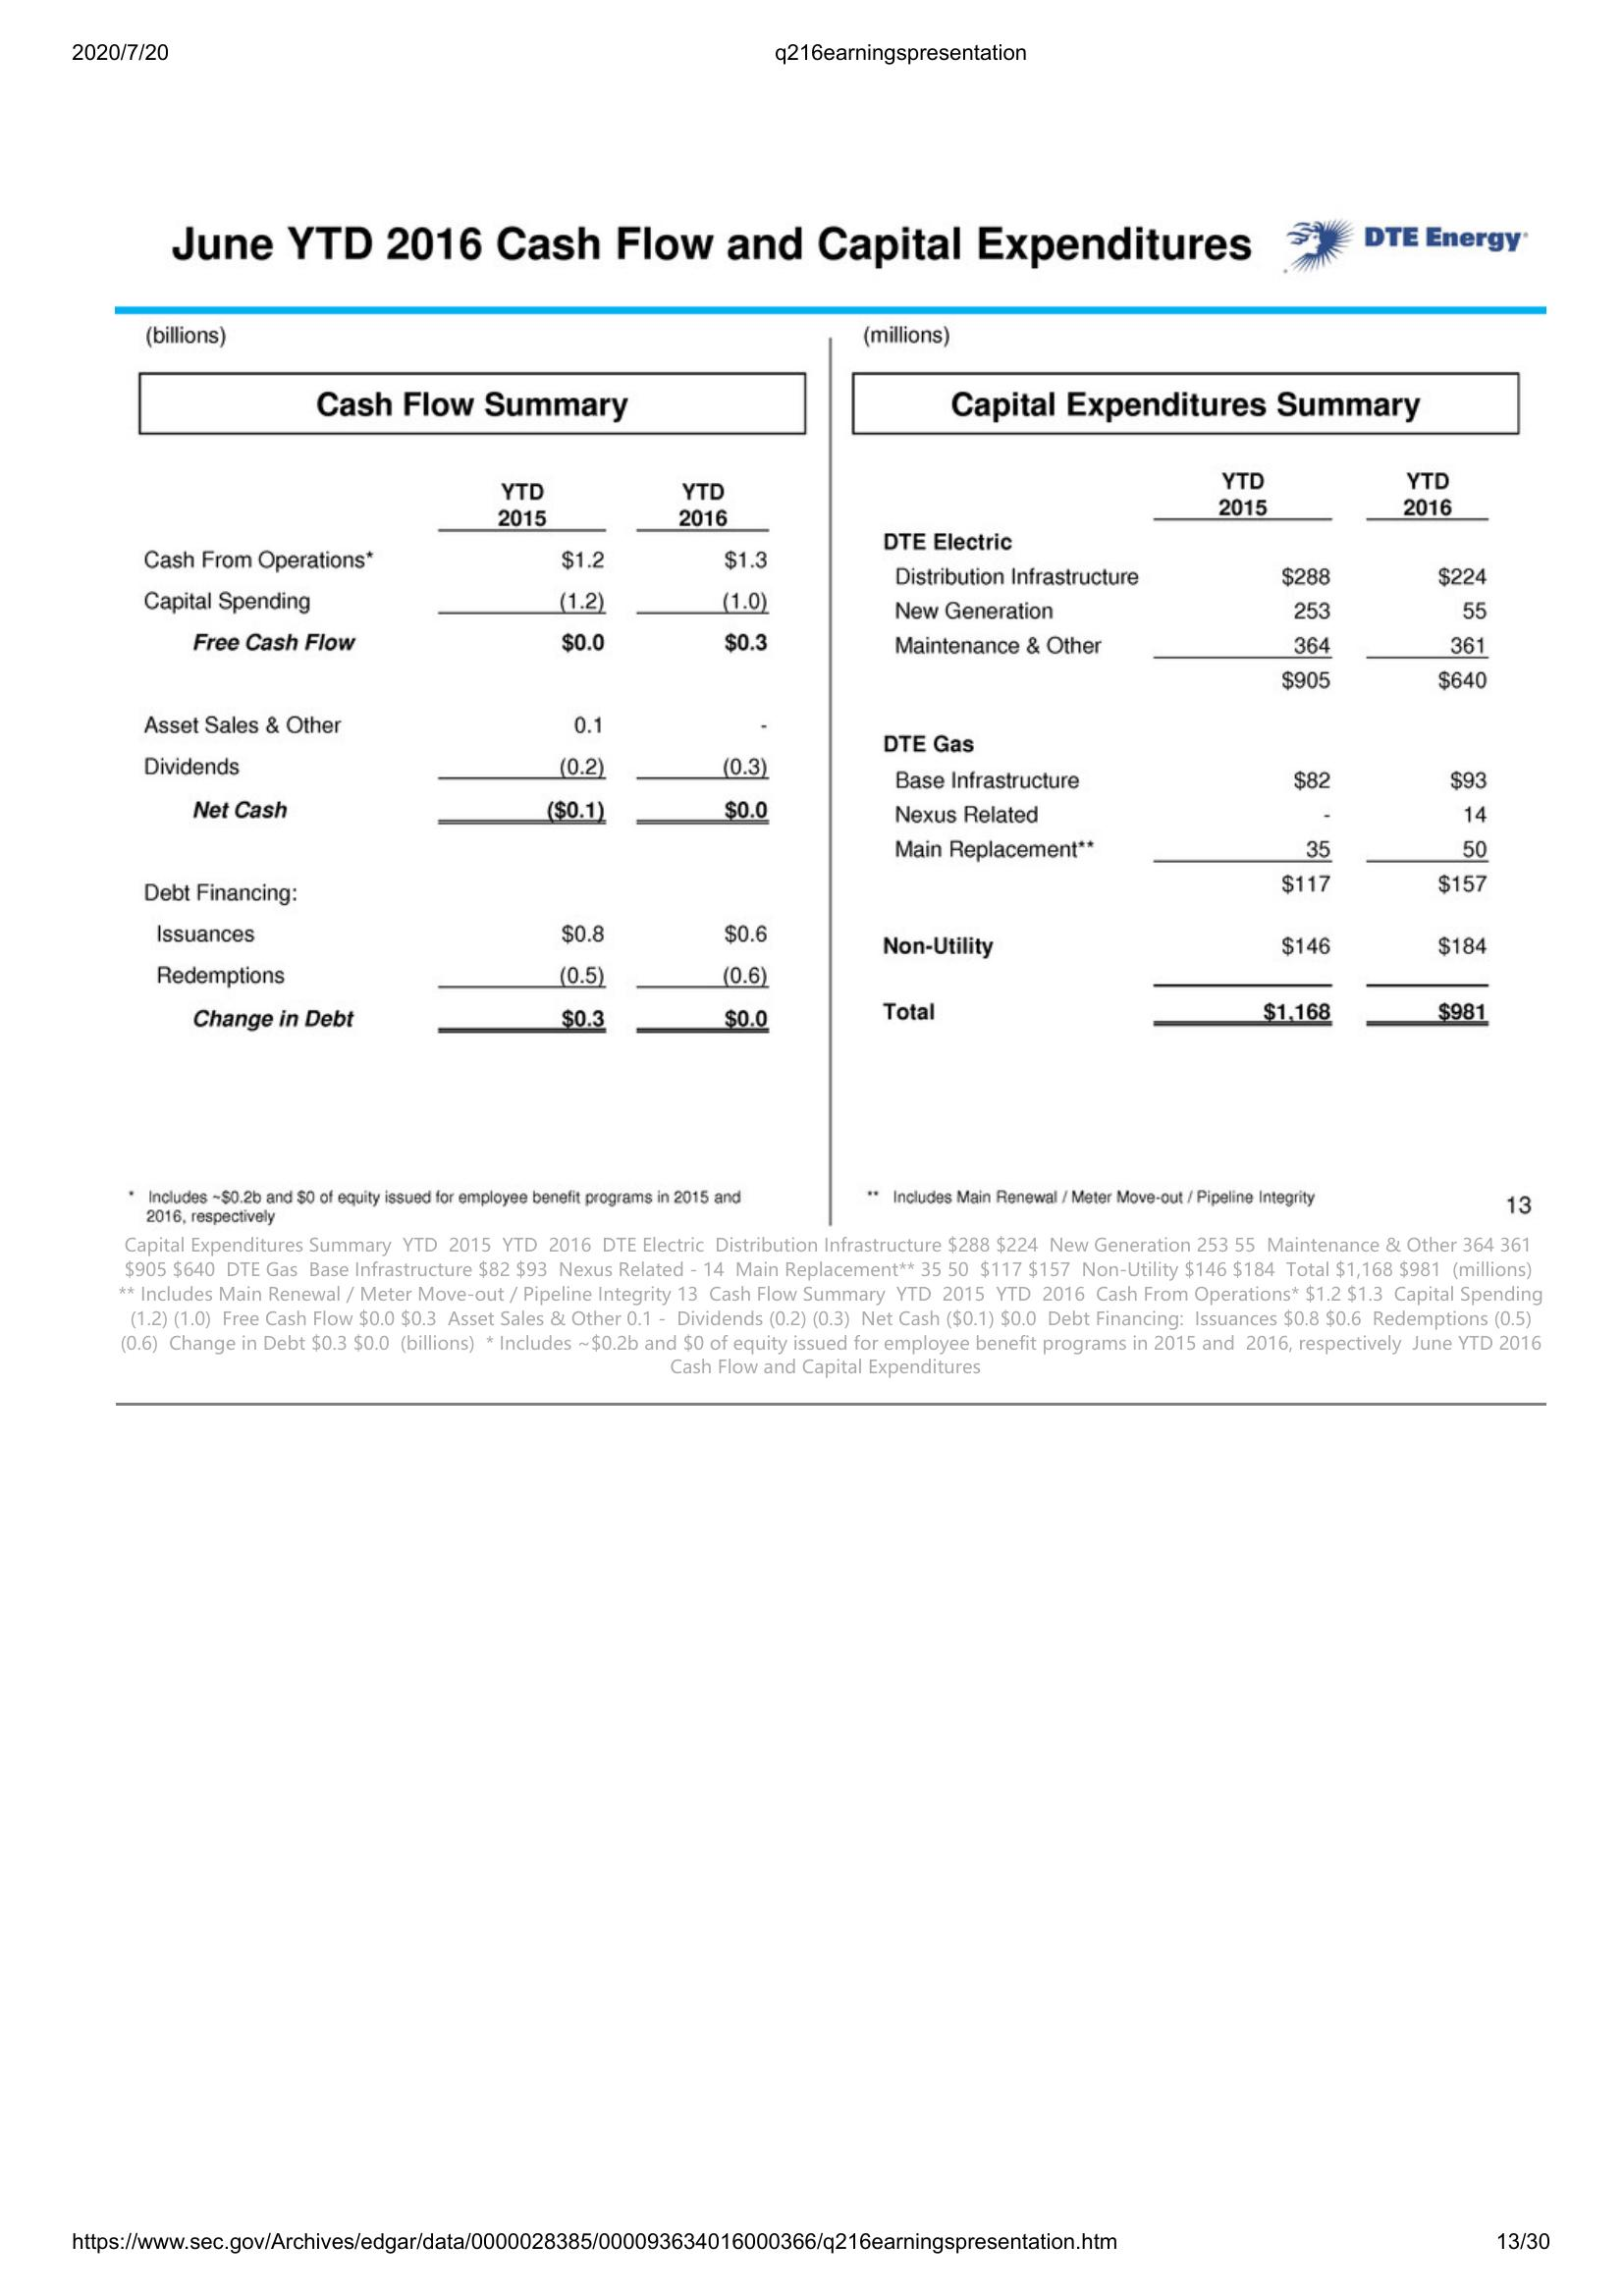table: (130, 360, 806, 1055), (840, 367, 1523, 1046)
